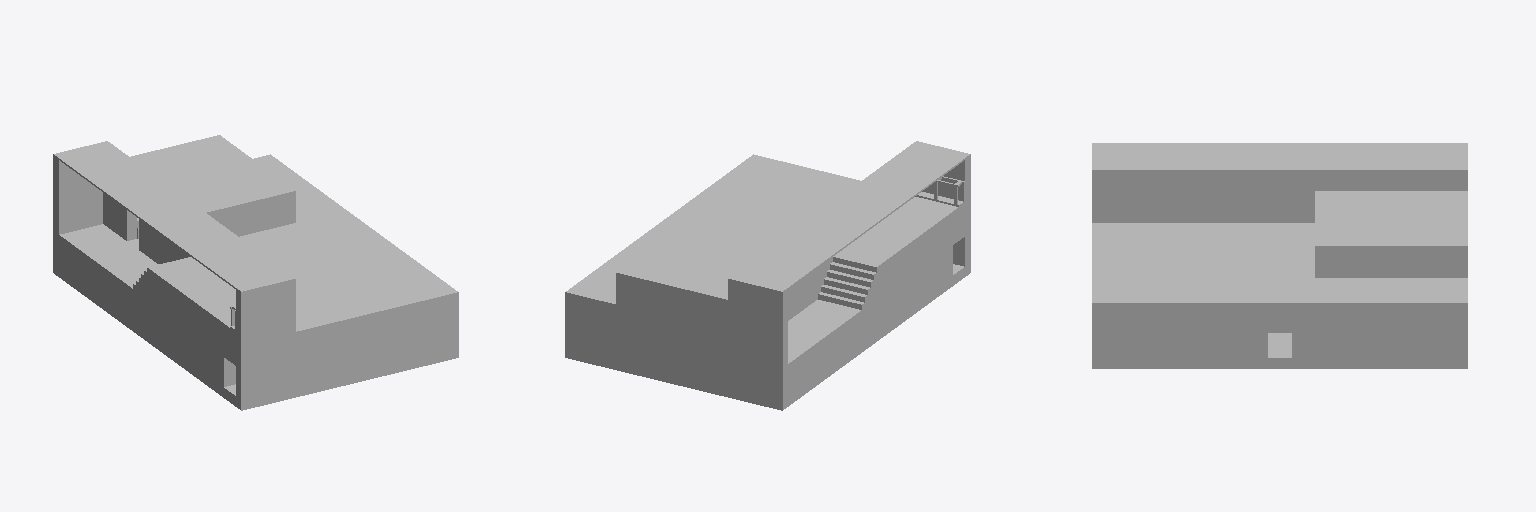
Rendered from roof_labyrinth_right.obj.
3 renders of one model, left to right at view 1: azimuth 30°, elevation 25°; view 2: azimuth 150°, elevation 25°; view 3: azimuth 270°, elevation 25°, orthographic.
Visible parts, largest first — view 1: object 1; view 2: object 1; view 3: object 1.
Boxes of the visible parts, <box> form: object 1: <box>53,135,458,410</box>; object 1: <box>565,141,970,410</box>; object 1: <box>1092,143,1467,368</box>.
Size of the model in its own units: 12.8 by 6.7 by 19.2.